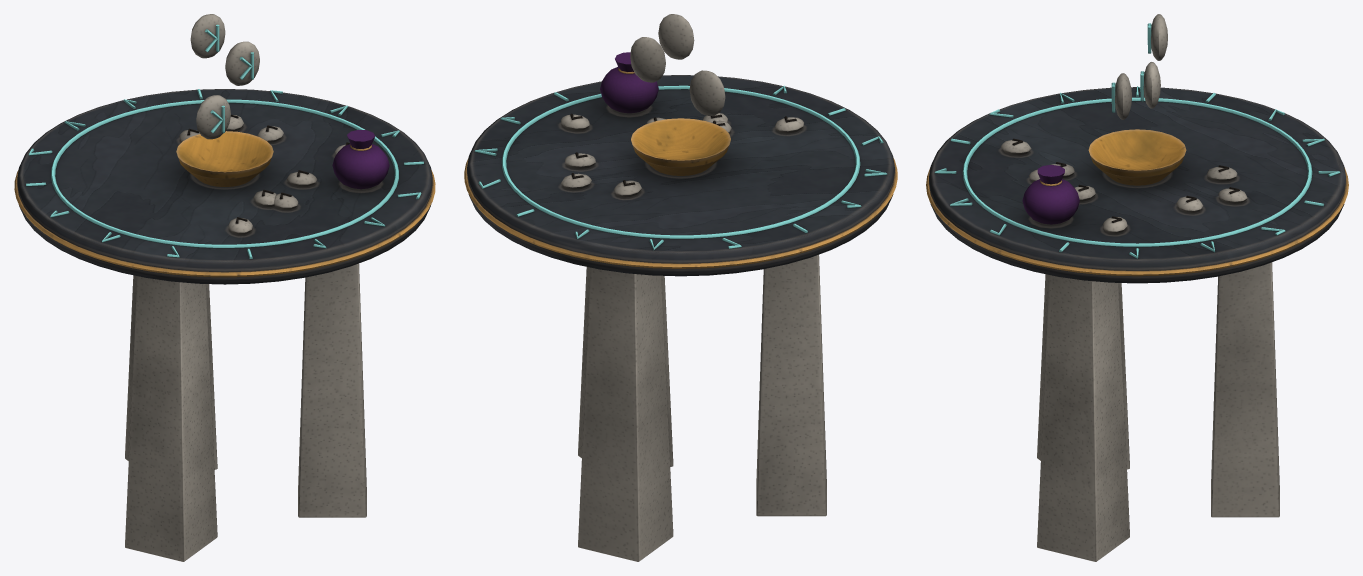
Rendered from RuneStoneTable.fbx.
The picture shows the model from 3 angles, left to right: view 1: azimuth 30°, elevation 25°; view 2: azimuth 150°, elevation 25°; view 3: azimuth 270°, elevation 25°; orthographic projection. The views are drawn at different scales.
Visible parts, largest first — view 1: RuneStoneTable_Main, RuneStoneTable_Glow; view 2: RuneStoneTable_Main, RuneStoneTable_Glow; view 3: RuneStoneTable_Main, RuneStoneTable_Glow.
Part boxes in pixels (left/top/right/bottom): RuneStoneTable_Main: left=14, top=14, right=435, bottom=561; RuneStoneTable_Glow: left=26, top=24, right=423, bottom=258; RuneStoneTable_Main: left=464, top=14, right=897, bottom=561; RuneStoneTable_Glow: left=474, top=85, right=887, bottom=250; RuneStoneTable_Main: left=926, top=14, right=1348, bottom=561; RuneStoneTable_Glow: left=934, top=23, right=1340, bottom=258.
Size of the model in its own units: 294 by 372 by 294.
